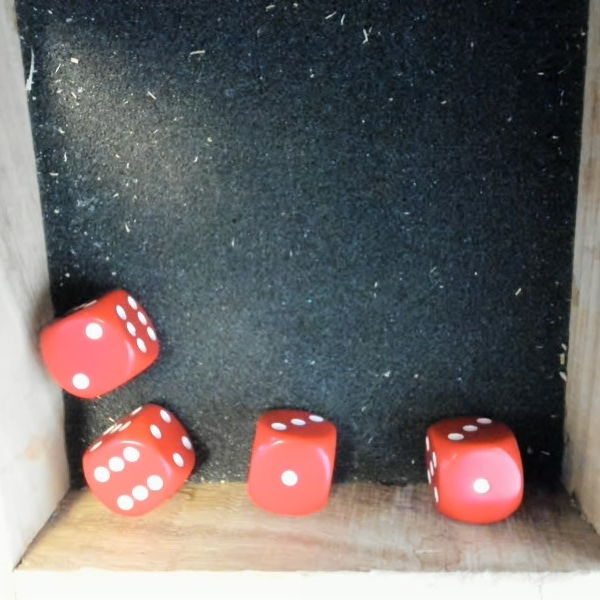red_die_pip1: (246, 407, 340, 521), (429, 417, 523, 524)
red_die_pip2: (32, 279, 172, 412)
red_die_pip6: (67, 392, 212, 533)
